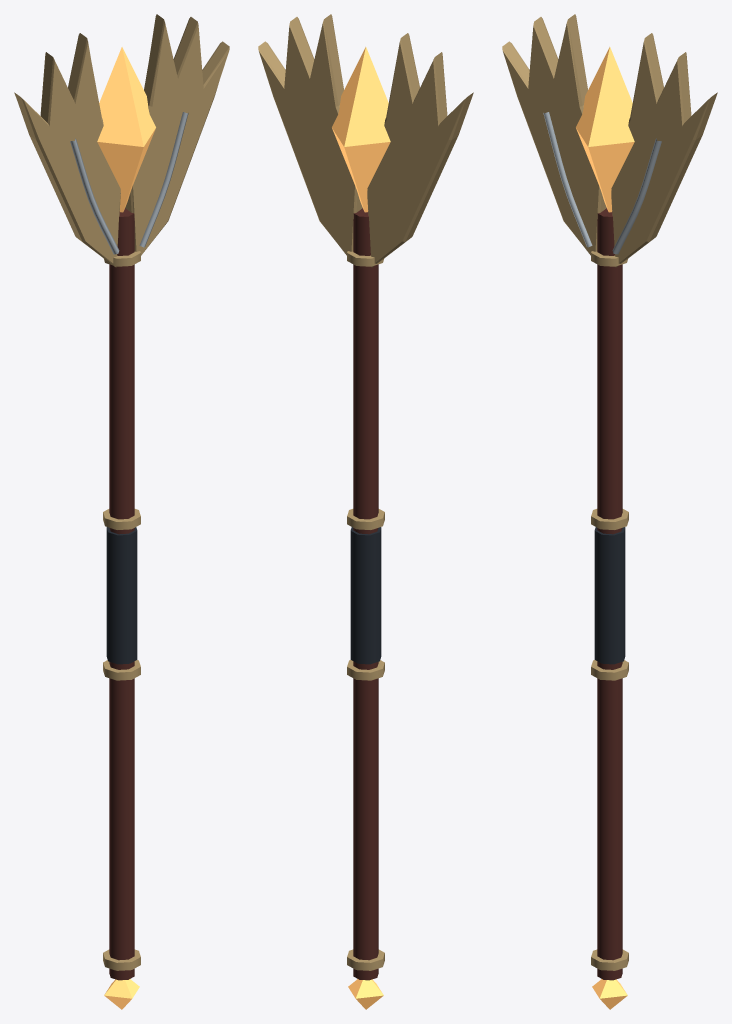
The model's file is universal-low.glb.
3 views of the same model, side by side, from view 1: azimuth 30°, elevation 25°; view 2: azimuth 150°, elevation 25°; view 3: azimuth 330°, elevation 25° (orthographic).
Visible parts, largest first — view 1: Hearthkeeper Staff; view 2: Hearthkeeper Staff; view 3: Hearthkeeper Staff.
Part boxes in pixels (x1=…): Hearthkeeper Staff: x1=14, y1=14, x2=229, y2=1009; Hearthkeeper Staff: x1=258, y1=14, x2=473, y2=1009; Hearthkeeper Staff: x1=502, y1=14, x2=717, y2=1009.
Size of the model in its own units: 0.4057 by 1.83 by 0.147.
